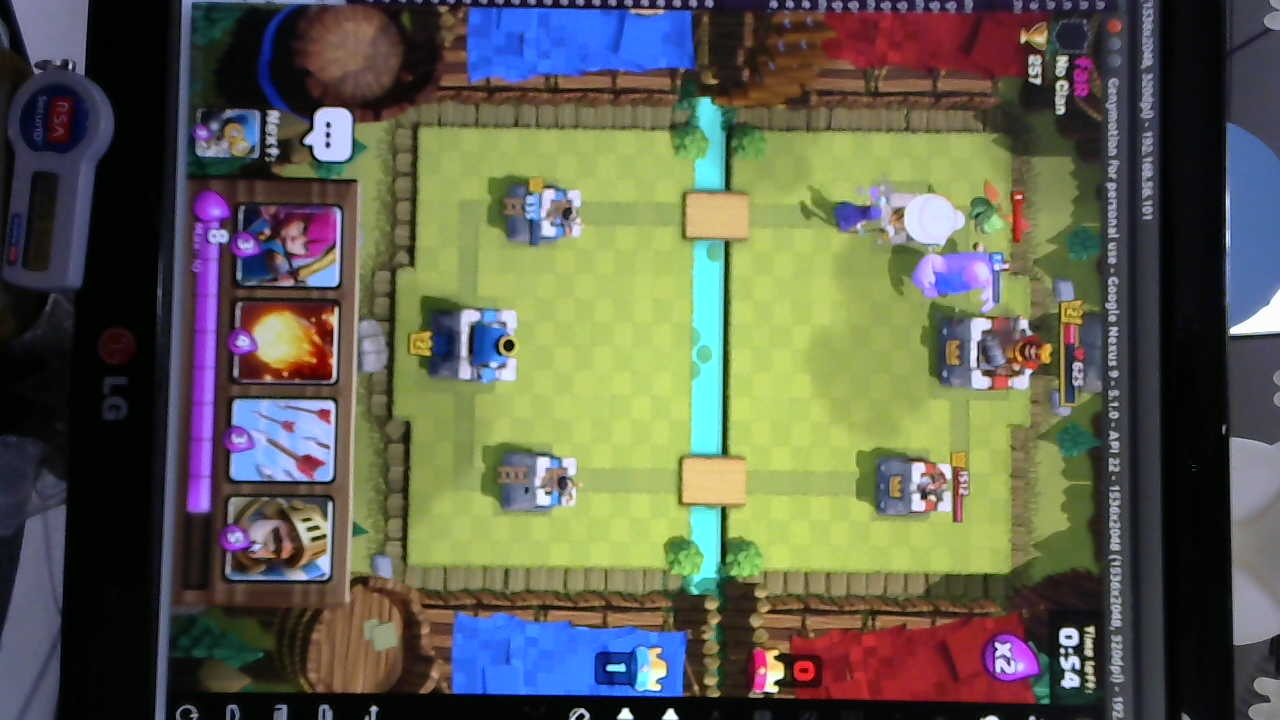arena: (495, 446, 583, 517), (502, 179, 584, 245)
dragon: (968, 182, 1017, 243)
earena: (870, 454, 954, 520)
eking: (938, 313, 1047, 398)
giant: (903, 251, 1010, 298)
king: (431, 303, 525, 382)
witch: (830, 200, 897, 241)
